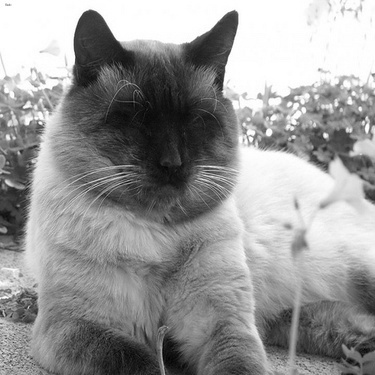cat: (25, 8, 373, 371)
